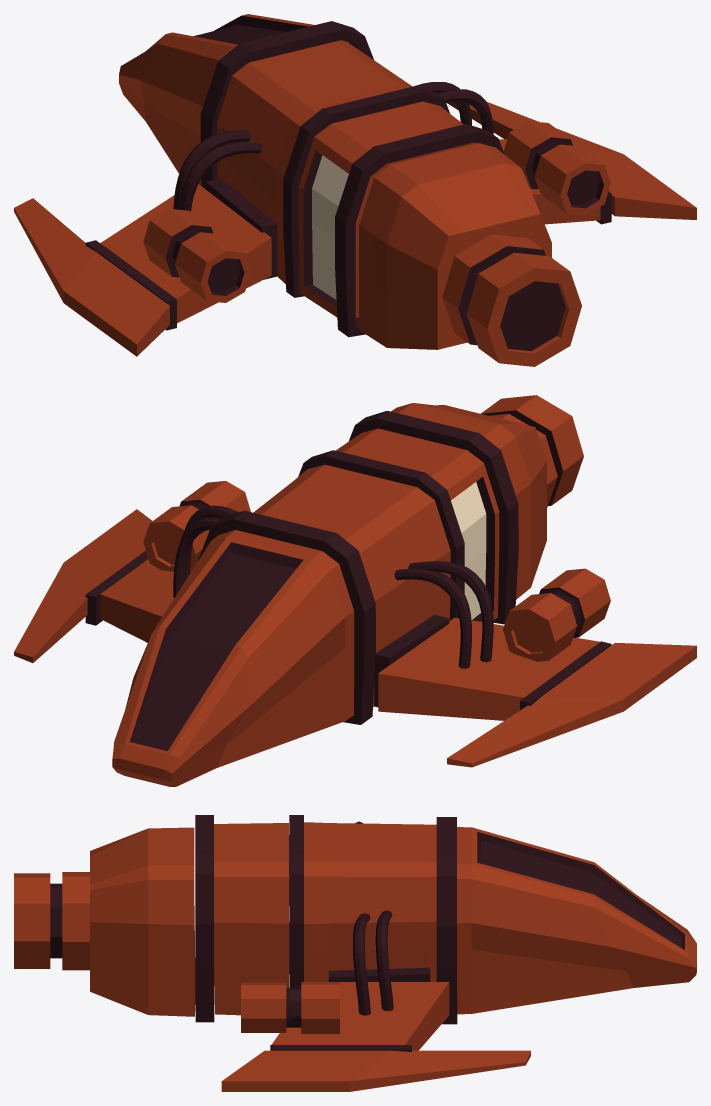
The model's file is Caly_1.fbx.
The picture shows the model from 3 angles, top to bottom: view 1: azimuth 30°, elevation 25°; view 2: azimuth 150°, elevation 25°; view 3: azimuth 270°, elevation 25°; orthographic projection. The views are drawn at different scales.
Visible parts, largest first — view 1: Cube.063, Cube.003, Cube.001, Circle.001, Cube.005, Cube.000, Circle.000, Cube.002; view 2: Cube.005, Circle.001, Cube.003, Cube.001, Cube.000, Cube.063, Circle.000, Cube.002; view 3: Cube.005, Cube.063, Cube.003, Cube.001, Circle.000, Cube.002.
Boxes of the visible parts, box(x1,y1,x2,y2) form: Cube.063: box(359, 143, 581, 366); Cube.003: box(206, 40, 449, 297); Cube.001: box(298, 101, 504, 337); Circle.001: box(100, 130, 271, 323); Cube.005: box(119, 14, 373, 189); Cube.000: box(14, 198, 176, 356); Circle.000: box(414, 82, 610, 224); Cube.002: box(447, 101, 696, 224); Cube.005: box(112, 510, 375, 786); Circle.001: box(378, 561, 610, 720); Cube.003: box(229, 450, 464, 707); Cube.001: box(336, 410, 518, 624); Cube.000: box(447, 641, 696, 767); Cube.063: box(391, 395, 583, 599); Circle.000: box(100, 481, 250, 642); Cube.002: box(14, 509, 152, 662); Cube.005: box(436, 817, 696, 1024); Cube.063: box(14, 827, 195, 1016); Cube.003: box(289, 815, 436, 988); Cube.001: box(195, 815, 289, 1022); Circle.000: box(241, 910, 449, 1050); Cube.002: box(221, 1045, 530, 1091).
Bounding box in the file's own units: 988 × 299 × 1194.
